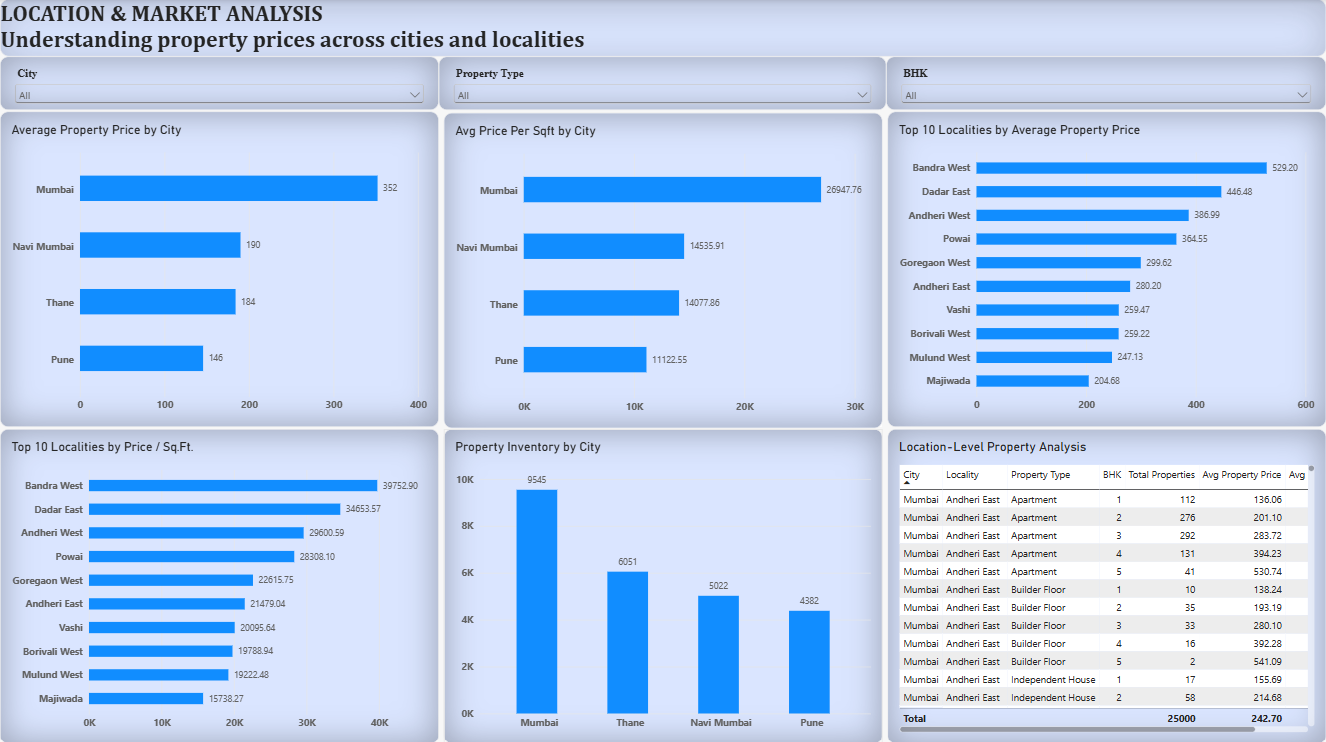

This screenshot's page, from the dashboard's own definition file:
{"tool":"powerbi","page":{"name":"Location Analysis","canvas":[1920,1080],"ordinal":1},"visuals":[{"type":"textbox","box":[0,0,1920.1,83.2],"z":0},{"type":"slicer","fields":{"Values":["public real_estate.city"]},"box":[0,83.2,635.2,77.8],"z":1000},{"type":"slicer","fields":{"Values":["public real_estate.property_type"]},"box":[635.2,83.2,647.9,77.8],"z":2000},{"type":"slicer","fields":{"Values":["public real_estate.bhk"]},"box":[1283,83.2,637,77.8],"z":3000},{"type":"clusteredBarChart","title":"Average Property Price by City","fields":{"Y":["All Measures.Avg Property Price"],"Category":["public real_estate.city"]},"box":[0,162.2,635.4,456.7],"z":4000},{"type":"clusteredBarChart","title":"Top 10 Localities by Price / Sq.Ft.","fields":{"Category":["public real_estate.locality"],"Y":["All Measures.Avg Price Per Sqft"]},"box":[0,622.1,635.4,456.7],"z":5000},{"type":"clusteredColumnChart","title":"Property Inventory by City","fields":{"Category":["public real_estate.city"],"Y":["All Measures.Total Properties"]},"box":[642,622.1,635.4,456.7],"z":6000},{"type":"clusteredBarChart","fields":{"Y":["All Measures.Avg Price Per Sqft"],"Category":["public real_estate.city"]},"box":[642,165.5,635.4,456.7],"z":7000},{"type":"tableEx","title":"Location-Level Property Analysis","fields":{"Values":["public real_estate.city","public real_estate.locality","public real_estate.property_type","public real_estate.bhk","All Measures.Total Properties","All Measures.Avg Property Price","All Measures.Avg Price Per Sqft"]},"box":[1284,622.1,635.4,456.7],"z":8000},{"type":"clusteredBarChart","title":"Top 10 Localities by Average Property Price","fields":{"Category":["public real_estate.locality"],"Y":["All Measures.Avg Property Price"]},"box":[1284,162.2,635.4,456.7],"z":9000}]}

Visuals, with their boxes in screenshot pixels (x1, y1, x2, y2), scaled from the page's 1920x1080 canvas onto the 1326x742 screenshot:
textbox: crop(0, 0, 1325, 57)
slicer - public real_estate.city: crop(0, 57, 439, 111)
slicer - public real_estate.property_type: crop(439, 57, 886, 111)
slicer - public real_estate.bhk: crop(886, 57, 1325, 111)
"Average Property Price by City" clusteredBarChart: crop(0, 111, 439, 425)
"Top 10 Localities by Price / Sq.Ft." clusteredBarChart: crop(0, 427, 439, 741)
"Property Inventory by City" clusteredColumnChart: crop(443, 427, 882, 741)
clusteredBarChart - All Measures.Avg Price Per Sqft x public real_estate.city: crop(443, 114, 882, 427)
"Location-Level Property Analysis" tableEx: crop(887, 427, 1325, 741)
"Top 10 Localities by Average Property Price" clusteredBarChart: crop(887, 111, 1325, 425)
